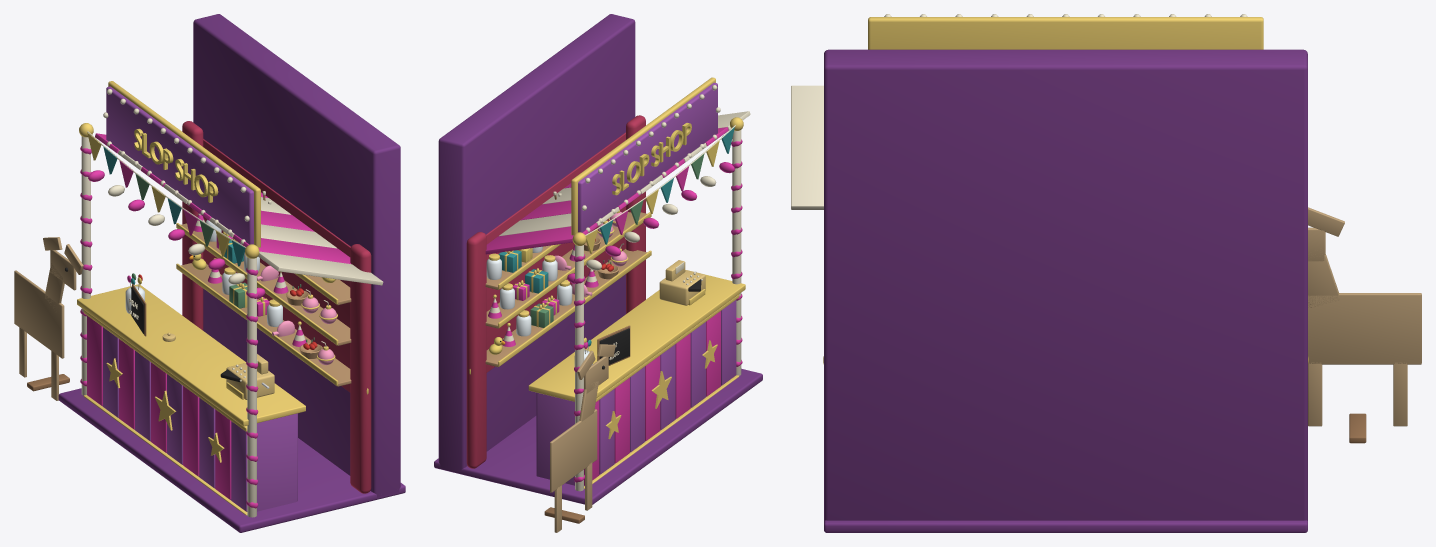
The model's file is slopshop.glb.
3 views of the same model, side by side, from view 1: azimuth 30°, elevation 25°; view 2: azimuth 150°, elevation 25°; view 3: azimuth 270°, elevation 25° (orthographic). The views are drawn at different scales.
Parts seen in each view (by area): view 1: back, countertop, stage, marquee, drape1, backpanel, counter, moose_body, pole1, awn7, drape-1, pole-1 (+25 smaller); view 2: back, stage, countertop, marquee, drape-1, backpanel, moose_body, counter, pole1, drape1, awn0, mq_border (+25 smaller); view 3: back, mq_border, moose_body, stage, awn7, moose_neck, moose_leg1, moose_leg-1.
Part boxes in pixels (x1,y1,x2,y2): back: [193, 14, 400, 497]; countertop: [77, 284, 305, 426]; stage: [58, 388, 405, 532]; marquee: [106, 86, 253, 244]; drape1: [350, 244, 371, 493]; backpanel: [203, 139, 350, 392]; counter: [102, 405, 297, 511]; moose_body: [14, 270, 64, 358]; pole1: [247, 257, 256, 517]; awn7: [258, 251, 383, 285]; drape-1: [182, 121, 203, 330]; pole-1: [81, 136, 90, 395]; back: [438, 14, 635, 472]; stage: [434, 368, 762, 504]; countertop: [528, 270, 745, 401]; marquee: [578, 82, 717, 232]; drape-1: [466, 232, 486, 468]; backpanel: [486, 132, 625, 372]; moose_body: [550, 409, 597, 492]; counter: [536, 385, 721, 485]; pole1: [732, 130, 741, 375]; drape1: [626, 115, 645, 313]; awn0: [485, 223, 597, 254]; mq_border: [571, 77, 715, 235]; back: [824, 49, 1307, 520]; mq_border: [868, 17, 1263, 49]; moose_body: [1308, 293, 1421, 364]; stage: [824, 520, 1307, 532]; awn7: [791, 85, 823, 209]; moose_neck: [1308, 254, 1339, 307]; moose_leg1: [1308, 362, 1322, 426]; moose_leg-1: [1393, 362, 1407, 426].
Size of the model in its own units: 1.9 by 3.6 by 4.43.
